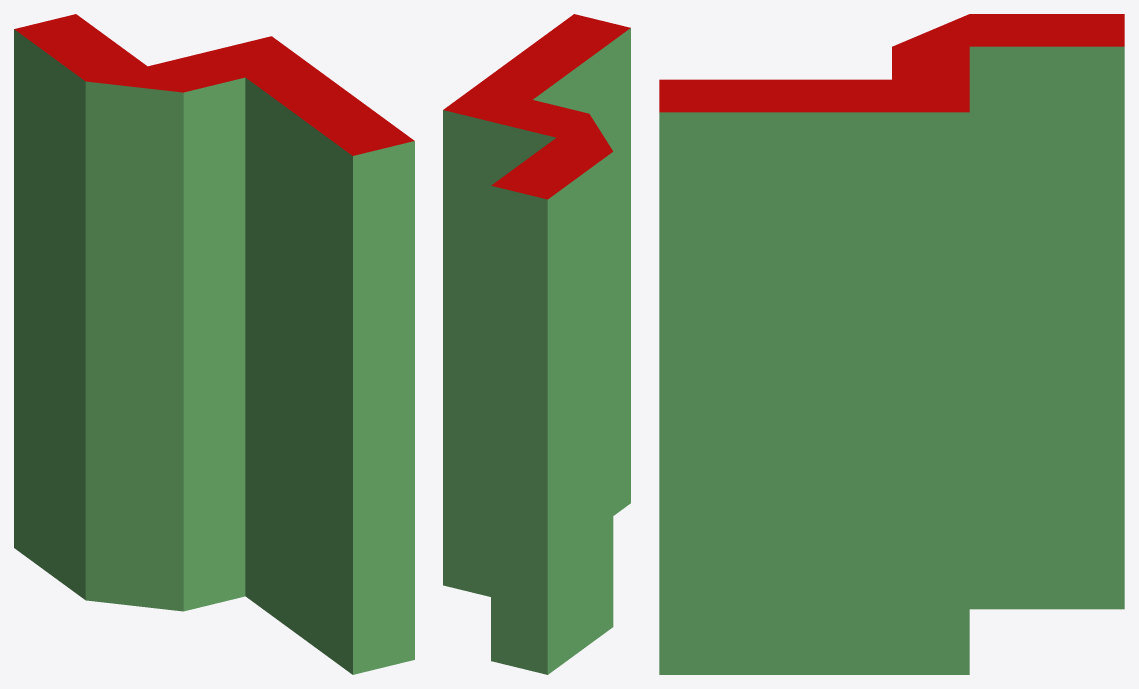
The model's file is x_00_colonn_12_1_mirror.fbx.
The picture shows the model from 3 angles, left to right: view 1: azimuth 30°, elevation 25°; view 2: azimuth 150°, elevation 25°; view 3: azimuth 270°, elevation 25°; orthographic projection. The views are drawn at different scales.
Visible parts, largest first — view 1: x_00_colonn_12_1_mirror1; view 2: x_00_colonn_12_1_mirror1; view 3: x_00_colonn_12_1_mirror1.
Part boxes in pixels (left/top/right/bottom): x_00_colonn_12_1_mirror1: left=14, top=14, right=414, bottom=674; x_00_colonn_12_1_mirror1: left=443, top=14, right=630, bottom=674; x_00_colonn_12_1_mirror1: left=659, top=14, right=1124, bottom=674.
Size of the model in its own units: 1.5 by 4 by 3.
